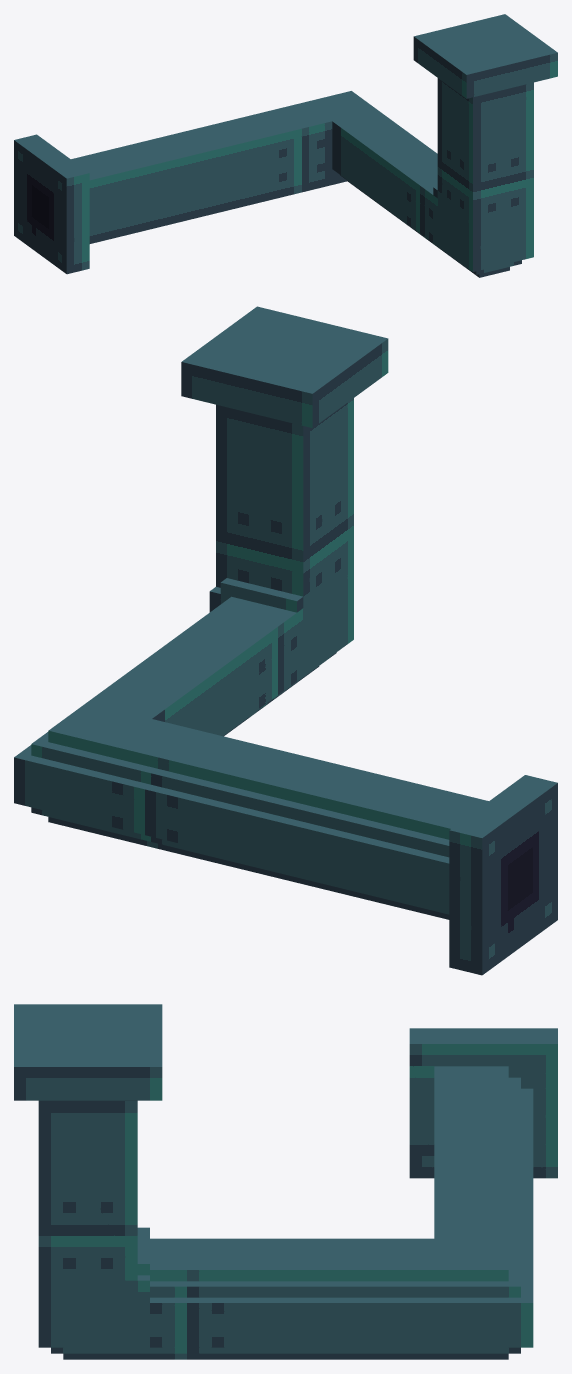
File: int_boiler_pipe_nuzuao.fezao.glb
3 renders of one model, top to bottom at view 1: azimuth 30°, elevation 25°; view 2: azimuth 150°, elevation 25°; view 3: azimuth 270°, elevation 25°, orthographic. The views are drawn at different scales.
Parts seen in each view (by area): view 1: INT_BOILER_PIPE_NUZUAO; view 2: INT_BOILER_PIPE_NUZUAO; view 3: INT_BOILER_PIPE_NUZUAO.
Boxes of the visible parts, x1=… form: INT_BOILER_PIPE_NUZUAO: x1=14, y1=14, x2=557, y2=277; INT_BOILER_PIPE_NUZUAO: x1=14, y1=306, x2=557, y2=975; INT_BOILER_PIPE_NUZUAO: x1=14, y1=1004, x2=557, y2=1359.
Bounding box in the file's own units: 2.88 × 1.88 × 2.75.
Materials: 1 (1 with a texture image).
